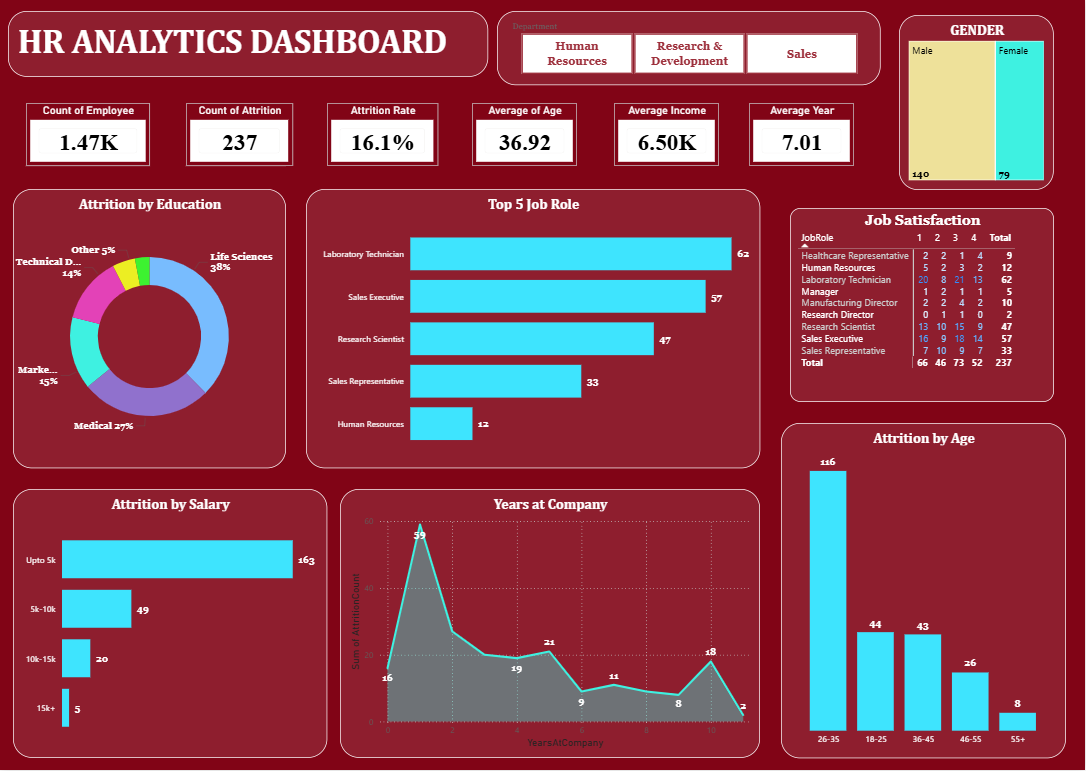

Layout of this report page (visuals, bound fields, positions):
{"tool":"powerbi","page":{"name":"Page 1","canvas":[1550,1100],"ordinal":0},"visuals":[{"type":"cardVisual","title":"Count of Employee","fields":{"Data":["CountNonNull(HR_Analytics.EmpID)"]},"box":[37.1,147.1,177.1,90],"z":0},{"type":"textbox","box":[11.4,15.7,685.7,94.3],"z":1000},{"type":"cardVisual","title":"Count of Attrition","fields":{"Data":["Sum(HR_Analytics.AttritionCount)"]},"box":[265.7,147.1,152.9,90],"z":2000},{"type":"cardVisual","title":"Attrition Rate","fields":{"Data":["HR_Analytics.AttritionRate"]},"box":[467.1,147.1,158.6,90],"z":3000},{"type":"cardVisual","title":"Average of Age","fields":{"Data":["Avg(HR_Analytics.Age)"]},"box":[674.3,147.1,150,90],"z":4000},{"type":"cardVisual","title":"Average Income","fields":{"Data":["Avg(HR_Analytics.MonthlyIncome)"]},"box":[877.1,147.1,150,90],"z":5000},{"type":"cardVisual","title":"Average Year ","fields":{"Data":["Avg(HR_Analytics.YearsAtCompany)"]},"box":[1070,147.1,150,90],"z":6000},{"type":"donutChart","title":"Attrition by Education","fields":{"Category":["HR_Analytics.EducationField"],"Y":["Sum(HR_Analytics.AttritionCount)"]},"box":[18.6,270,390,398.6],"z":7000},{"type":"columnChart","title":"Attrition by Age","fields":{"Category":["HR_Analytics.AgeGroup"],"Y":["Sum(HR_Analytics.AttritionCount)"]},"box":[1115.7,604.3,407.1,478.6],"z":8000},{"type":"pivotTable","title":"Job Satisfaction","fields":{"Rows":["HR_Analytics.JobRole"],"Columns":["HR_Analytics.JobSatisfaction"],"Values":["Sum(HR_Analytics.AttritionCount)"]},"box":[1128.6,297.1,377.1,277.1],"z":9000},{"type":"barChart","title":"Attrition by Salary","fields":{"Category":["HR_Analytics.SalarySlab"],"Y":["Sum(HR_Analytics.AttritionCount)"]},"box":[18.6,698.6,448.6,384.3],"z":10000},{"type":"barChart","title":"Top 5 Job Role","fields":{"Category":["HR_Analytics.JobRole"],"Y":["Sum(HR_Analytics.AttritionCount)"]},"box":[437.1,270,648.6,398.6],"z":11000},{"type":"areaChart","title":"Years at Company","fields":{"Category":["HR_Analytics.YearsAtCompany"],"Y":["Sum(HR_Analytics.AttritionCount)"]},"box":[485.7,698.6,600,384.3],"z":12000},{"type":"treemap","title":"GENDER","fields":{"Values":["Sum(HR_Analytics.AttritionCount)"],"Group":["HR_Analytics.Gender"]},"box":[1284.3,21.4,221.4,250],"z":13000},{"type":"slicer","fields":{"Values":["HR_Analytics.Department"]},"box":[710,16,548,106],"z":14000}]}

Visuals, with their boxes in screenshot pixels (x1, y1, x2, y2), scaled from the page's 1550x1100 canvas onto the 1086x771 screenshot:
"Count of Employee" cardVisual: locate(26, 103, 150, 166)
textbox: locate(8, 11, 488, 77)
"Count of Attrition" cardVisual: locate(186, 103, 293, 166)
"Attrition Rate" cardVisual: locate(327, 103, 438, 166)
"Average of Age" cardVisual: locate(472, 103, 578, 166)
"Average Income" cardVisual: locate(615, 103, 720, 166)
"Average Year " cardVisual: locate(750, 103, 855, 166)
"Attrition by Education" donutChart: locate(13, 189, 286, 469)
"Attrition by Age" columnChart: locate(782, 424, 1067, 759)
"Job Satisfaction" pivotTable: locate(791, 208, 1055, 402)
"Attrition by Salary" barChart: locate(13, 490, 327, 759)
"Top 5 Job Role" barChart: locate(306, 189, 761, 469)
"Years at Company" areaChart: locate(340, 490, 761, 759)
"GENDER" treemap: locate(900, 15, 1055, 190)
slicer - HR_Analytics.Department: locate(497, 11, 881, 86)
